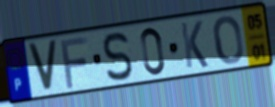0: (139, 26, 166, 77)
F: (59, 35, 90, 90)
K: (179, 19, 210, 71)
O: (212, 14, 245, 67)
S: (102, 30, 134, 84)
V: (26, 39, 59, 93)
